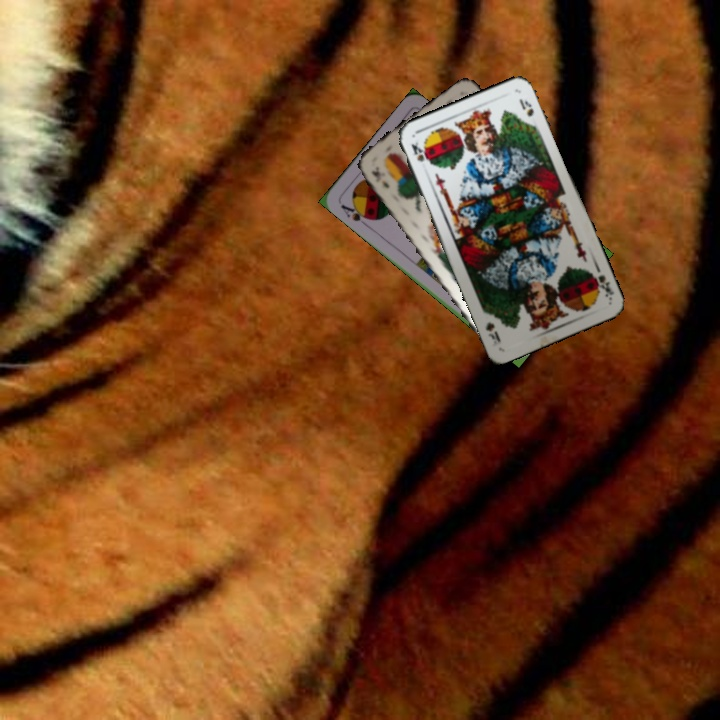EK: (367, 162, 392, 191)
SA: (337, 199, 374, 229)
SK: (587, 268, 616, 302), (407, 138, 430, 164)
